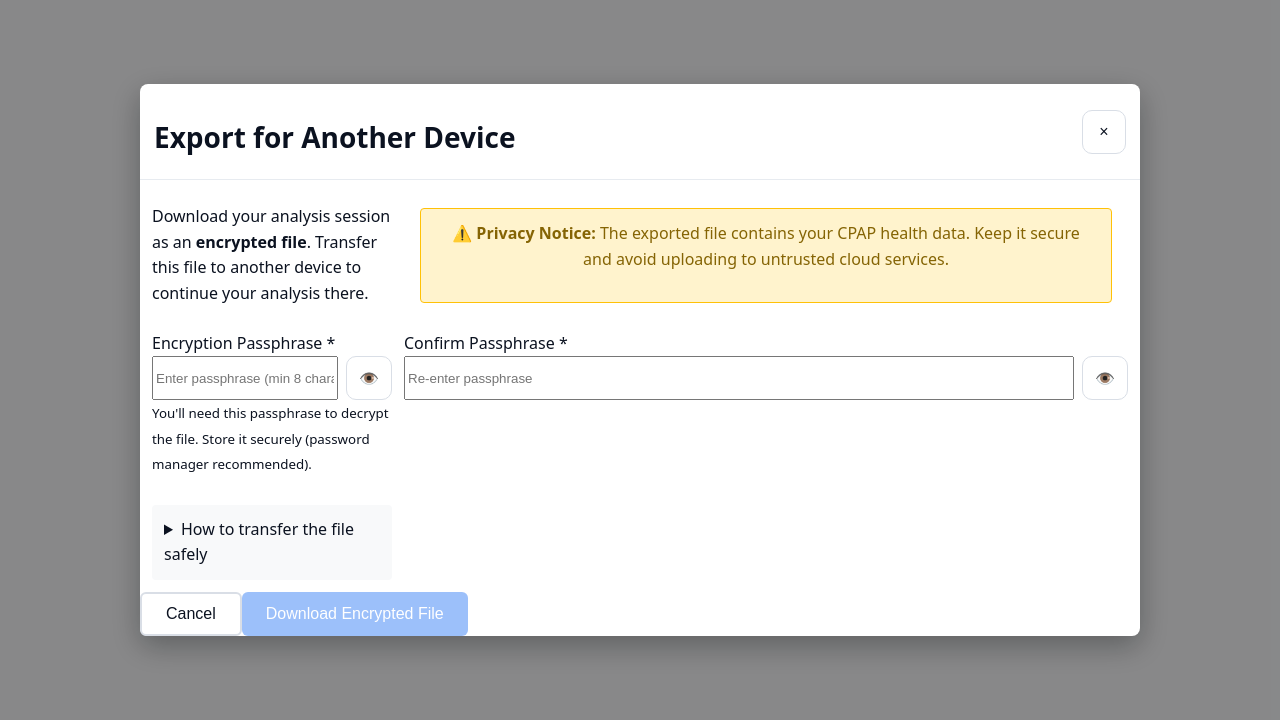
Test: ExportDataModal › should show suggestions for weak passphrase
Type "weakpass" into the password field labelled "Encryption Passphrase *".
click(245, 378); type("weakpass")  # box [152,356,338,400]
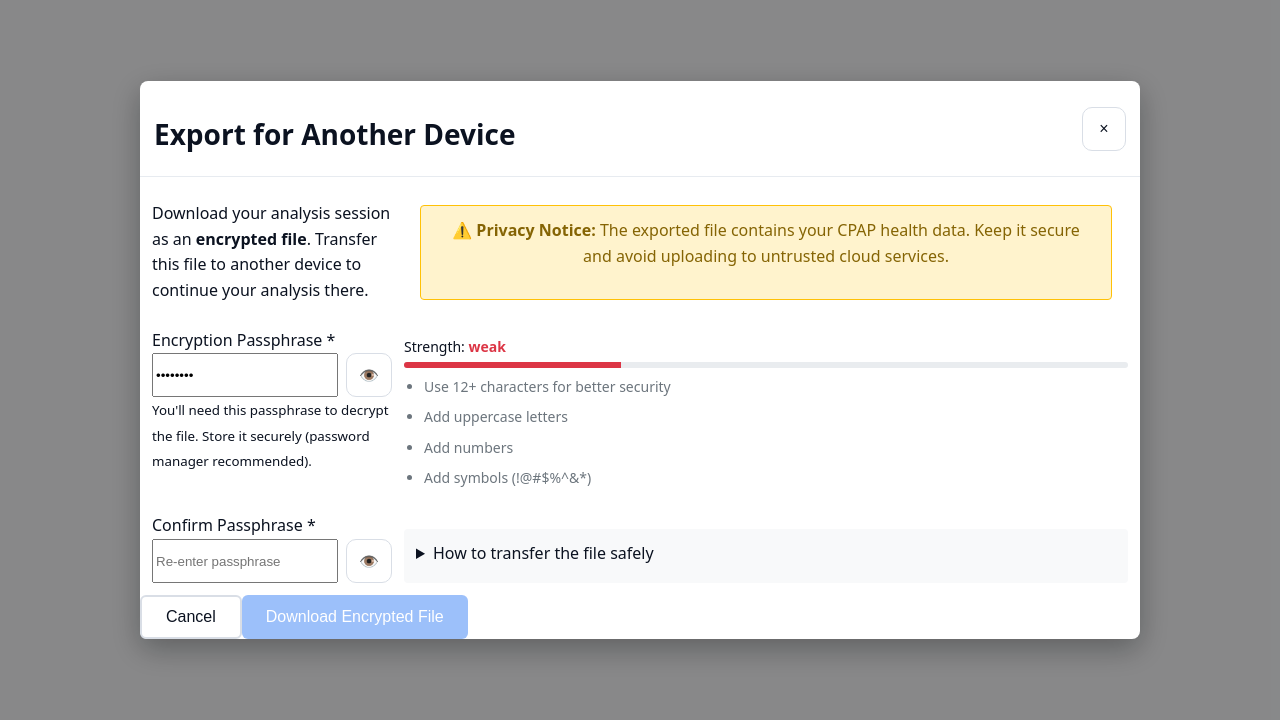
Result: the list item "Use 12+ characters for better security" is shown at [424,377,671,396]
Result: the list item "Add uppercase letters" is shown at [424,407,568,426]
Result: the list item "Add numbers" is shown at [424,438,513,457]
